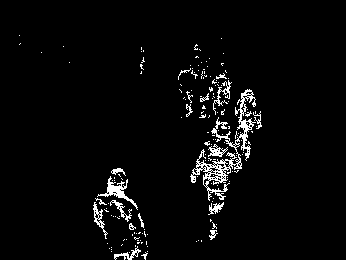person: (190, 122, 243, 241), (92, 166, 148, 260), (235, 88, 262, 160), (209, 71, 230, 119), (177, 67, 196, 118)
